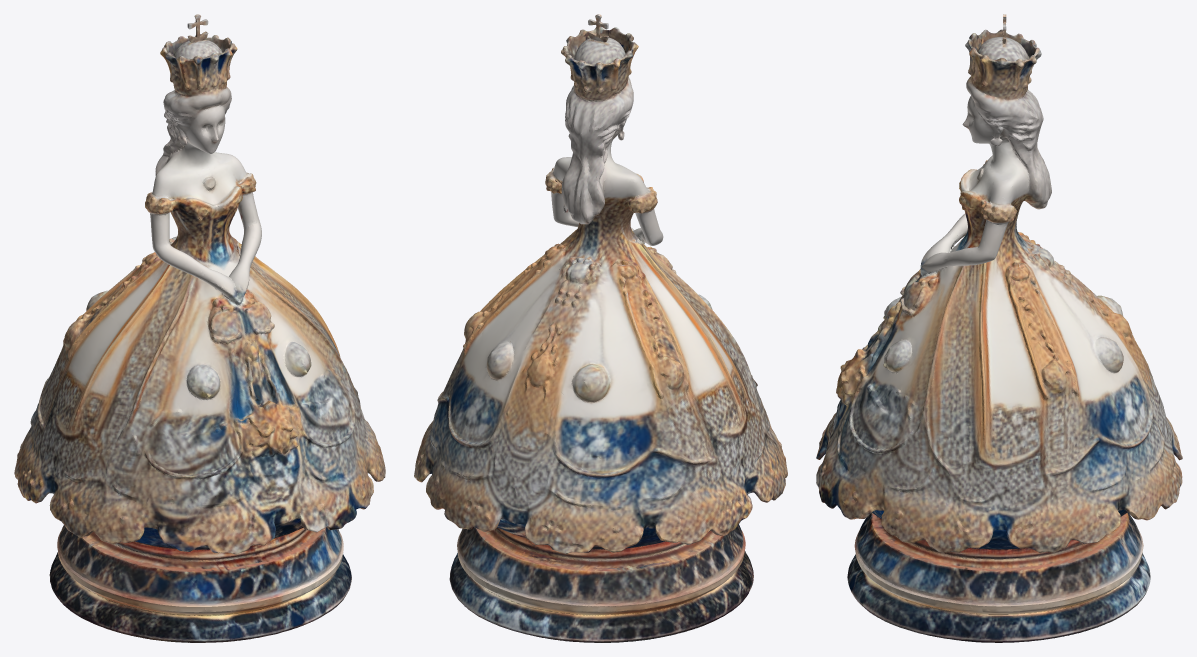
File: queen_white.glb
The picture shows the model from 3 angles, left to right: view 1: azimuth 30°, elevation 25°; view 2: azimuth 150°, elevation 25°; view 3: azimuth 270°, elevation 25°; orthographic projection.
Parts seen in each view (by area): view 1: model; view 2: model; view 3: model.
Boxes of the visible parts, x1,y1,x2,y2 form: model: (14, 14, 385, 642); model: (414, 14, 787, 642); model: (816, 14, 1182, 642).
Size of the model in its own units: 1.1 by 1.9 by 1.12.
Materials: 1 (1 with a texture image).
